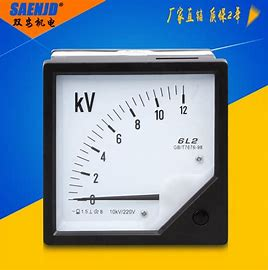pointer: (54, 73, 216, 237)
